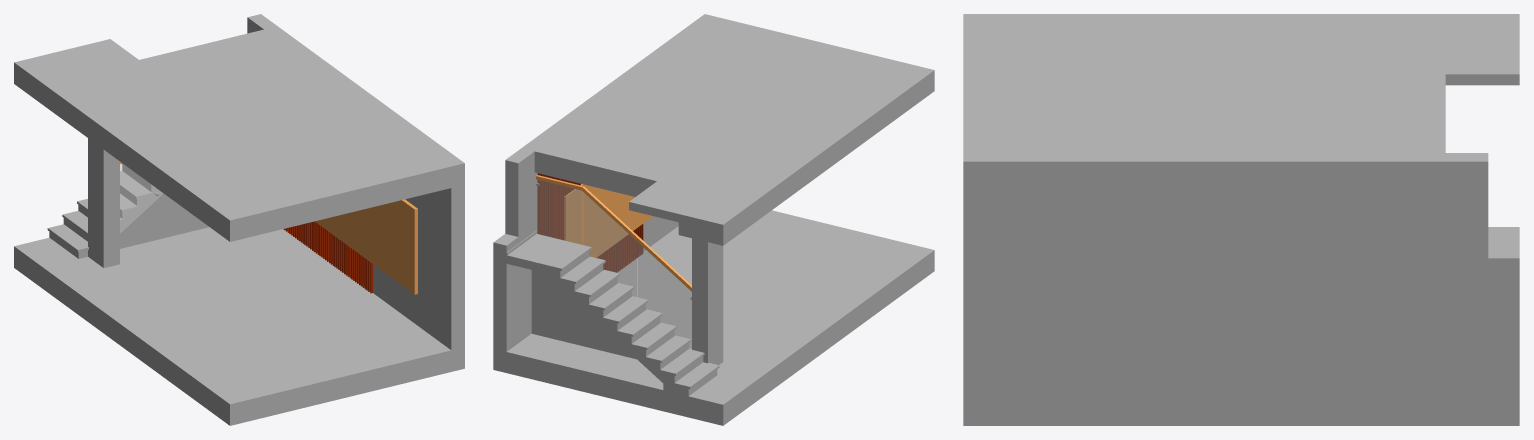
The model's file is рейки40x20_0.obj.
3 views of the same model, side by side, from view 1: azimuth 30°, elevation 25°; view 2: azimuth 150°, elevation 25°; view 3: azimuth 270°, elevation 25° (orthographic). The views are drawn at different scales.
Bounding box in the file's own units: 4.33 × 3.62 × 6.9.
